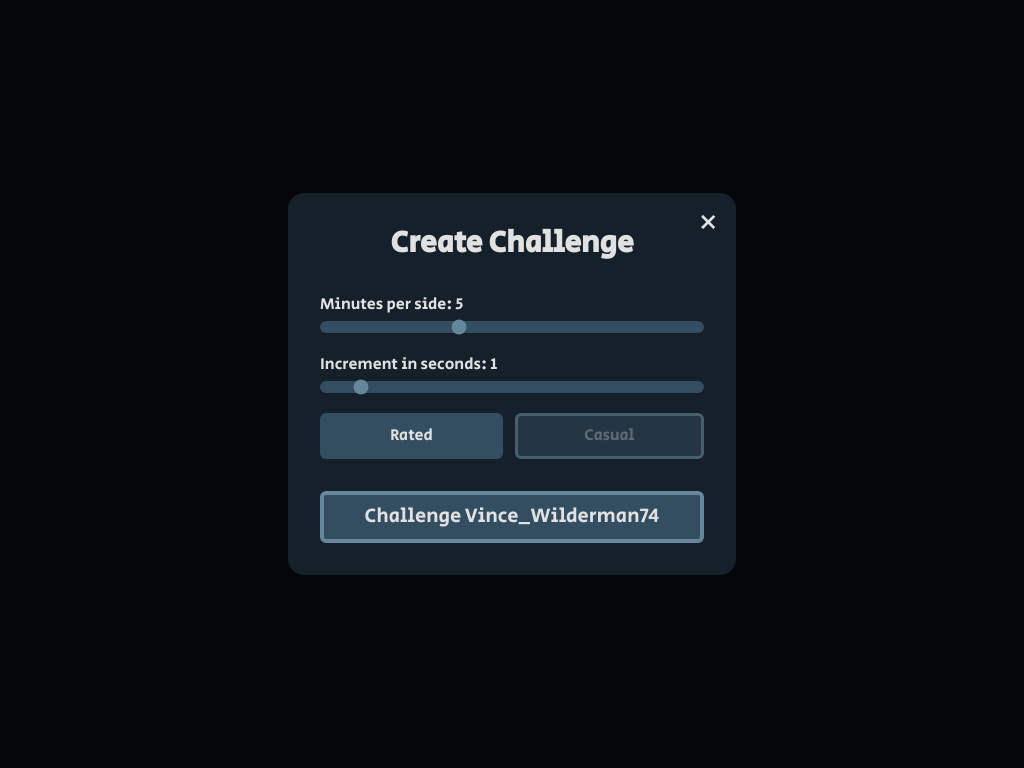
Test: ChallengePopup › should show error message if challenge fails
Click the button with test id "challengePopupCreate" at (512, 517), box [320,491,704,543]
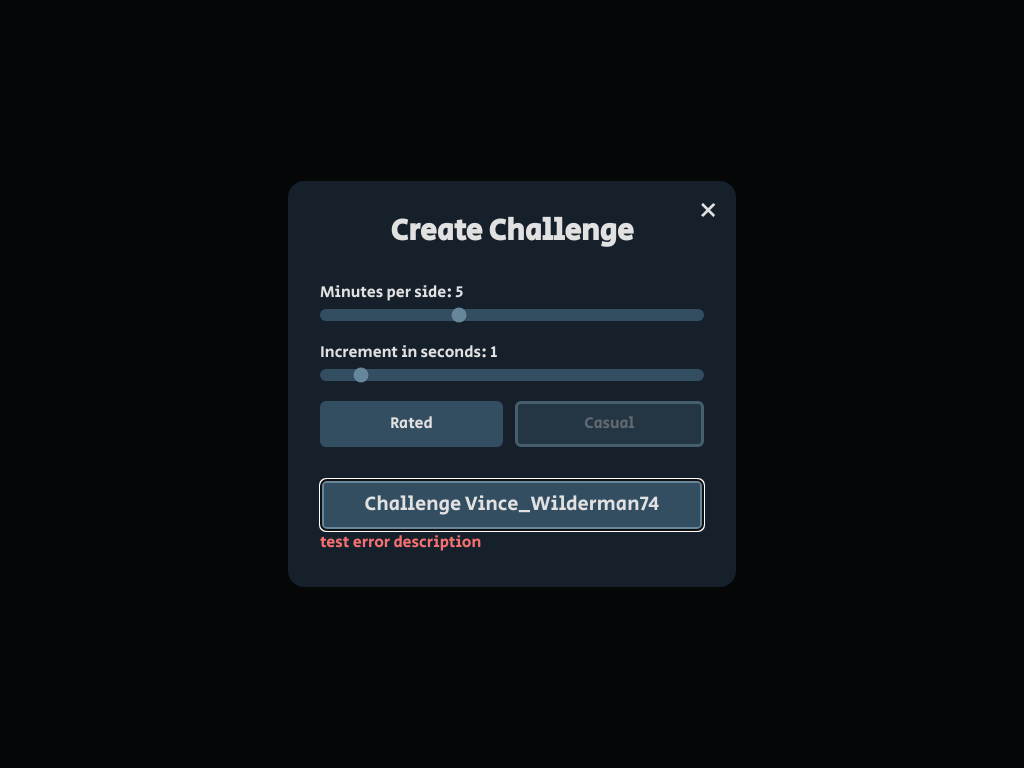
Expected: the text with test id "challengePopupError" reads "test error description", [320,531,481,554]
